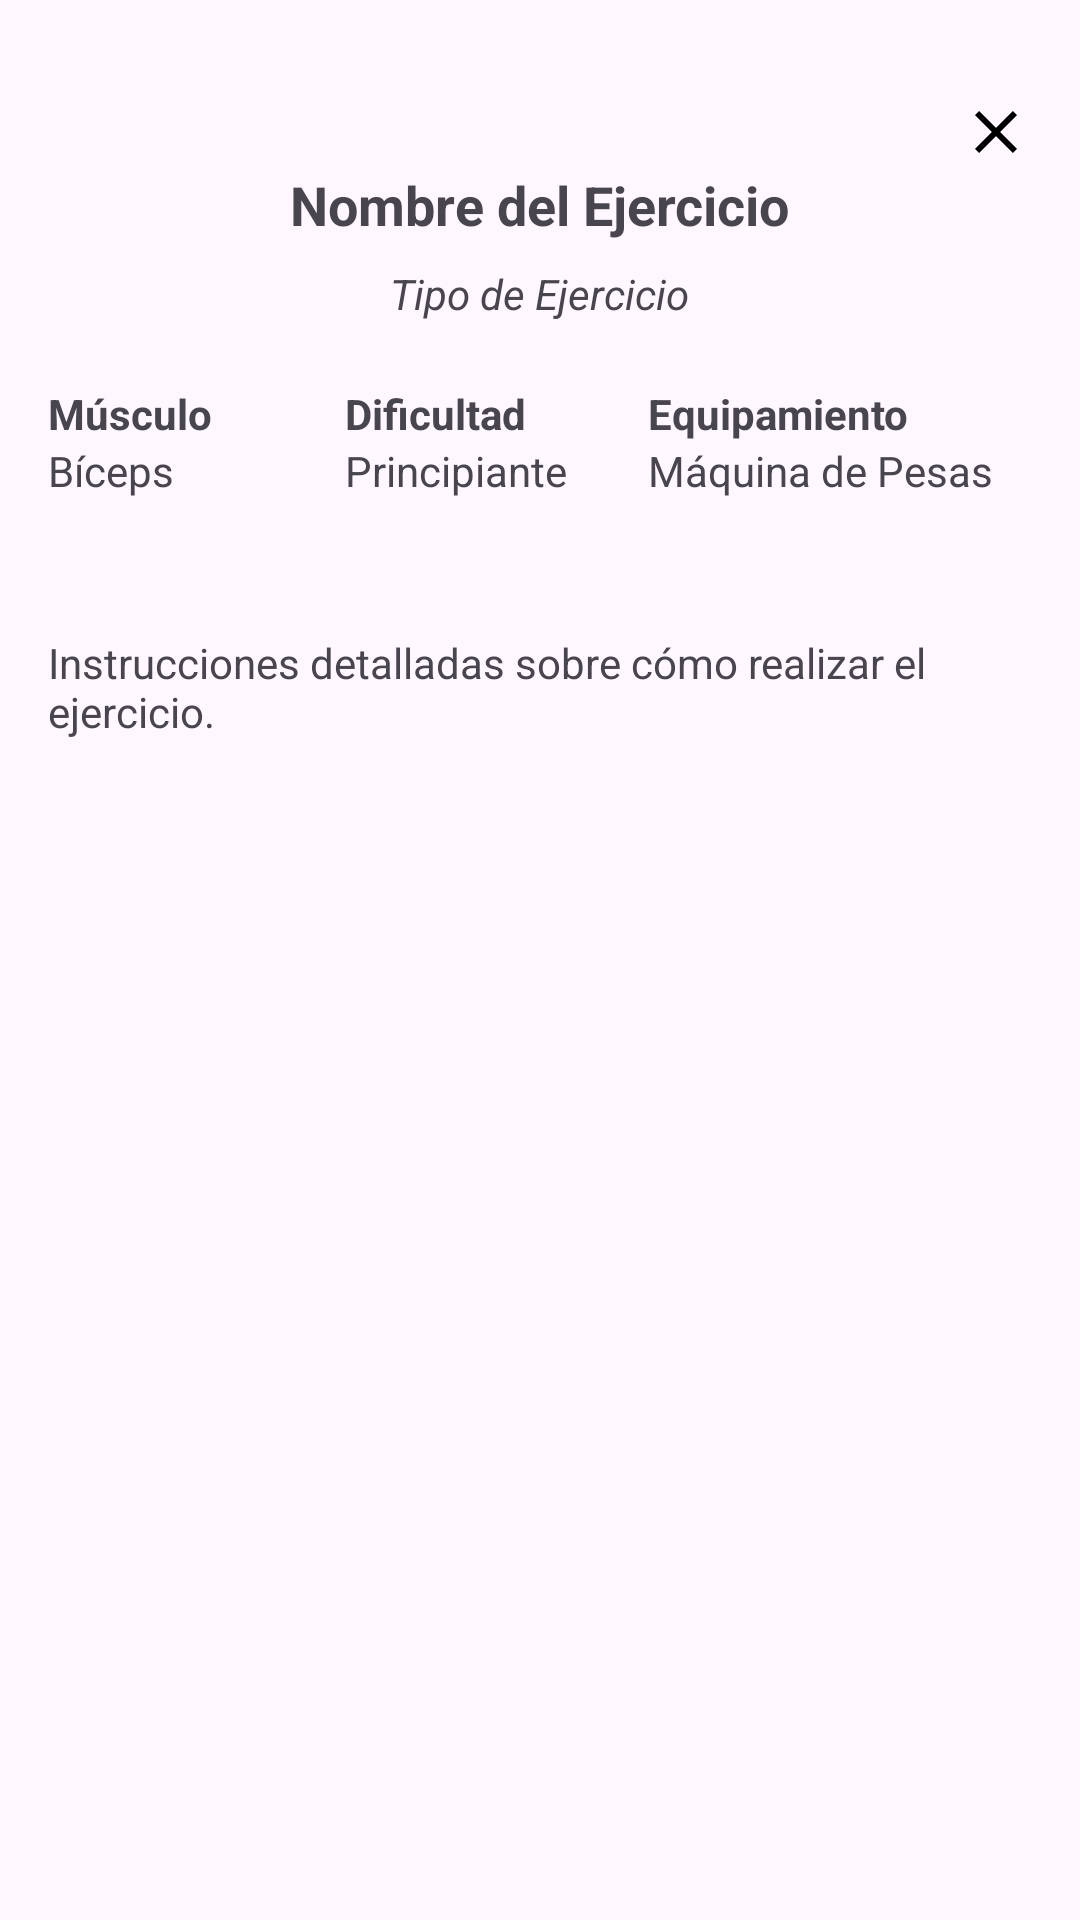

Icon bounding boxes for this 1080*1920 phone screenshot, format (x1, y1, x2, y2):
close: (975, 111, 1017, 153)
